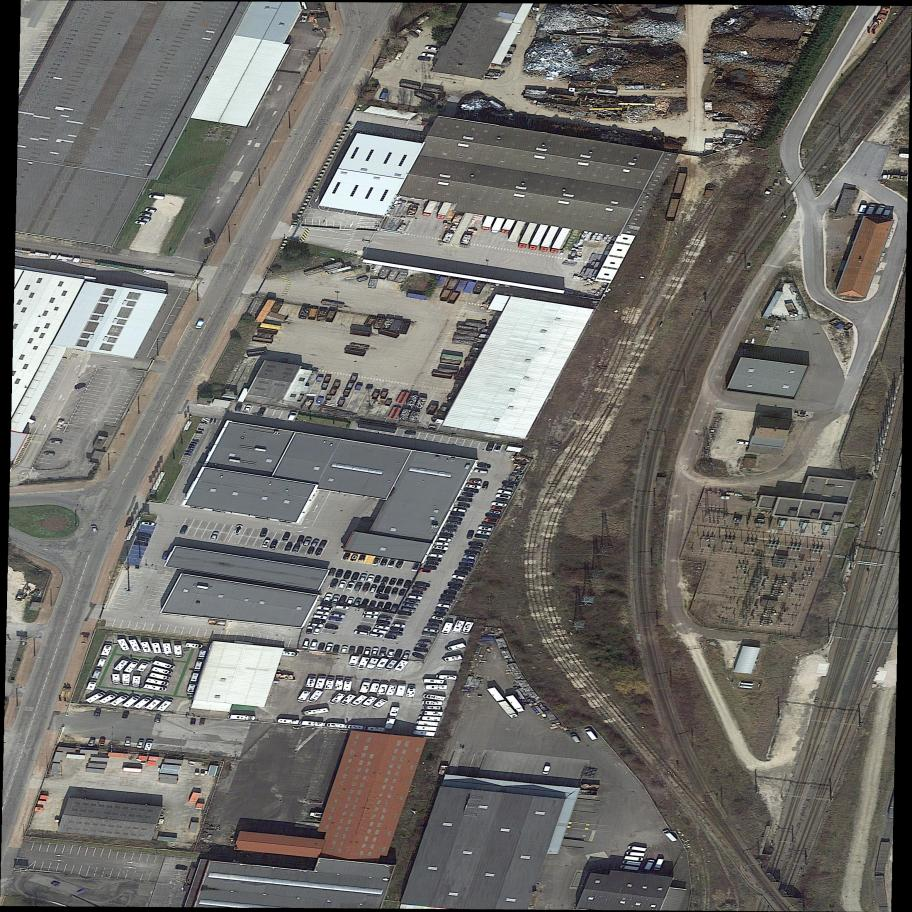large-vehicle: (538, 223, 560, 254), (528, 222, 550, 252), (549, 225, 571, 255), (517, 220, 538, 250), (498, 698, 519, 721), (506, 692, 527, 715), (156, 695, 175, 715), (121, 693, 142, 711), (489, 214, 506, 236), (421, 198, 438, 219), (436, 200, 452, 222), (109, 693, 131, 709), (123, 657, 141, 676), (134, 694, 153, 712), (145, 695, 164, 713), (392, 656, 410, 675), (339, 691, 358, 709), (360, 693, 378, 711), (349, 692, 368, 709), (85, 690, 106, 705), (328, 691, 346, 708), (783, 301, 799, 320), (500, 216, 516, 235), (308, 687, 324, 706), (128, 636, 143, 656), (114, 656, 131, 673), (152, 659, 176, 671), (374, 655, 390, 673), (148, 671, 173, 682), (583, 726, 599, 743), (661, 828, 678, 844), (372, 696, 389, 712), (384, 680, 399, 698), (99, 692, 119, 705), (441, 227, 455, 245), (452, 618, 466, 636), (117, 636, 131, 654), (357, 654, 371, 672), (302, 707, 330, 716), (445, 642, 467, 653), (135, 658, 150, 674), (100, 641, 114, 658), (297, 688, 311, 705), (441, 620, 454, 638), (482, 214, 495, 232), (145, 678, 170, 687), (143, 684, 168, 693), (568, 730, 582, 746), (384, 657, 398, 673), (461, 620, 474, 637), (140, 639, 153, 656), (366, 655, 379, 672), (460, 230, 473, 247), (151, 666, 173, 676), (421, 693, 447, 701), (376, 681, 389, 697), (305, 673, 318, 689), (314, 675, 327, 691), (358, 678, 371, 694), (441, 655, 464, 664), (227, 714, 256, 721), (86, 677, 99, 692), (151, 641, 163, 657), (323, 675, 335, 691), (161, 642, 173, 657), (91, 666, 103, 681), (333, 676, 345, 691), (369, 679, 381, 694), (275, 718, 300, 725), (421, 678, 446, 685), (96, 654, 108, 668), (348, 654, 360, 668), (395, 682, 406, 697), (418, 710, 444, 716), (388, 706, 400, 719), (653, 858, 664, 872), (541, 763, 552, 777), (364, 726, 386, 733), (385, 717, 396, 731), (419, 51, 438, 59), (184, 642, 205, 649), (423, 45, 441, 53), (323, 722, 347, 728), (418, 716, 442, 722), (644, 858, 655, 871), (189, 672, 200, 685), (621, 860, 641, 867), (406, 684, 416, 698), (343, 677, 353, 691), (345, 724, 364, 731), (186, 683, 197, 695), (301, 720, 323, 726), (435, 674, 457, 680), (866, 203, 876, 216), (173, 644, 183, 657), (422, 700, 443, 706), (423, 685, 448, 690), (857, 204, 867, 216), (875, 204, 885, 216), (881, 208, 891, 220), (619, 865, 639, 871), (625, 851, 645, 857), (197, 649, 207, 661), (193, 660, 203, 672), (132, 675, 141, 688), (122, 673, 131, 686), (281, 651, 300, 657), (144, 739, 153, 751), (624, 856, 644, 861), (112, 673, 121, 684), (627, 846, 646, 851), (423, 705, 442, 710)
small-vehicle: (409, 649, 426, 662), (386, 556, 398, 571), (407, 28, 421, 40), (194, 317, 206, 331), (377, 89, 389, 103), (393, 557, 405, 571), (409, 560, 421, 574), (375, 583, 387, 596), (400, 649, 412, 662), (287, 409, 298, 423), (323, 591, 334, 605), (490, 500, 509, 508), (73, 381, 88, 391), (423, 626, 441, 634), (371, 627, 389, 635), (135, 738, 146, 751), (310, 536, 321, 549), (209, 529, 220, 542), (261, 537, 272, 550), (317, 537, 328, 550), (283, 540, 294, 553), (352, 596, 363, 609), (329, 577, 340, 590), (342, 569, 353, 582), (337, 578, 348, 591), (360, 597, 371, 610), (389, 602, 400, 615), (365, 572, 376, 585), (465, 528, 476, 541), (161, 549, 172, 562), (493, 493, 513, 500), (472, 468, 489, 476), (496, 489, 515, 496), (372, 624, 391, 631), (329, 612, 348, 619), (302, 536, 313, 548), (375, 600, 386, 612), (350, 571, 361, 583), (402, 578, 413, 590), (393, 649, 404, 661), (339, 643, 350, 655), (311, 625, 322, 637), (282, 530, 292, 543), (291, 542, 301, 555), (345, 580, 355, 593), (353, 580, 363, 593), (345, 595, 355, 608), (407, 593, 423, 601), (414, 581, 430, 589), (311, 617, 327, 625), (484, 513, 502, 520), (421, 631, 439, 638), (477, 525, 495, 532), (123, 736, 133, 748), (257, 405, 267, 417), (493, 442, 503, 454), (486, 441, 496, 453), (179, 523, 189, 535), (233, 523, 243, 535), (367, 599, 377, 611), (335, 568, 345, 580), (361, 581, 371, 593), (383, 584, 393, 596), (383, 601, 393, 613), (388, 576, 398, 588), (380, 575, 390, 587), (338, 594, 348, 606), (330, 593, 340, 605), (370, 646, 380, 658), (377, 647, 387, 659), (386, 648, 396, 660), (324, 641, 334, 653), (316, 641, 326, 653), (379, 556, 389, 568), (153, 713, 163, 725), (124, 516, 134, 528), (476, 463, 493, 470), (465, 483, 482, 490), (452, 507, 469, 514), (463, 487, 480, 494), (402, 602, 419, 609), (474, 533, 491, 540), (377, 615, 394, 622), (375, 619, 392, 626), (413, 647, 430, 654), (132, 541, 149, 548), (133, 220, 149, 227), (447, 516, 463, 523), (439, 532, 455, 539), (447, 582, 463, 589), (391, 622, 407, 629), (362, 613, 378, 620), (315, 609, 331, 616), (309, 622, 325, 629), (87, 737, 97, 748), (390, 586, 400, 597), (355, 645, 365, 656), (362, 646, 372, 657), (308, 640, 318, 651), (501, 481, 519, 487), (259, 527, 268, 539), (371, 556, 380, 568), (122, 709, 131, 721), (143, 207, 158, 214), (468, 478, 483, 485), (375, 594, 390, 601), (410, 589, 425, 596), (417, 55, 432, 62), (452, 574, 467, 581), (454, 570, 469, 577), (457, 566, 472, 573), (469, 541, 484, 548), (484, 517, 499, 524), (389, 626, 404, 633), (357, 625, 372, 632), (388, 630, 403, 637), (328, 616, 343, 623), (324, 624, 339, 631), (428, 618, 443, 625), (354, 629, 369, 636), (148, 194, 165, 200), (432, 545, 449, 551), (499, 485, 516, 491), (436, 603, 453, 609), (404, 598, 421, 604), (458, 562, 475, 568), (460, 558, 477, 564), (465, 550, 482, 556), (476, 530, 493, 536), (317, 606, 334, 612), (306, 545, 316, 555), (234, 402, 243, 413), (314, 546, 323, 557), (328, 567, 337, 578), (369, 583, 378, 594), (398, 587, 407, 598), (396, 577, 405, 588), (373, 574, 382, 585), (358, 553, 367, 564), (349, 552, 358, 563), (419, 567, 433, 574), (433, 610, 447, 617), (441, 528, 457, 534), (457, 497, 473, 503), (445, 520, 461, 526), (443, 524, 459, 530), (441, 595, 457, 601), (397, 610, 413, 616), (401, 607, 417, 613), (412, 586, 428, 592), (417, 639, 433, 645), (368, 632, 384, 638), (136, 533, 152, 539), (135, 537, 151, 543), (423, 564, 438, 570), (456, 503, 471, 509), (439, 599, 454, 605), (450, 511, 465, 517), (359, 573, 368, 583), (443, 590, 458, 596), (430, 615, 445, 621), (450, 578, 465, 584), (481, 521, 496, 527), (490, 505, 505, 511), (331, 643, 341, 652), (364, 610, 379, 616), (462, 554, 477, 560), (384, 634, 399, 640), (319, 601, 334, 607), (313, 614, 328, 620), (305, 625, 314, 635), (425, 623, 440, 629), (48, 439, 63, 445), (297, 534, 305, 545), (343, 551, 351, 562), (139, 212, 153, 218), (461, 492, 475, 498), (415, 643, 429, 649), (90, 524, 99, 533), (481, 480, 489, 490), (428, 553, 444, 558), (436, 537, 452, 542), (348, 645, 356, 655), (199, 717, 207, 727), (138, 216, 151, 222), (404, 430, 417, 436), (469, 546, 482, 552), (489, 509, 502, 515), (425, 561, 440, 566), (427, 557, 442, 562), (430, 549, 445, 554), (435, 541, 450, 546), (141, 521, 156, 526), (434, 607, 449, 612), (335, 605, 350, 610), (97, 738, 106, 746), (189, 718, 197, 727), (93, 710, 101, 719), (44, 451, 56, 457), (243, 405, 253, 412), (414, 28, 424, 35), (302, 640, 309, 650), (175, 866, 189, 871), (448, 587, 461, 592), (736, 440, 749, 445)
